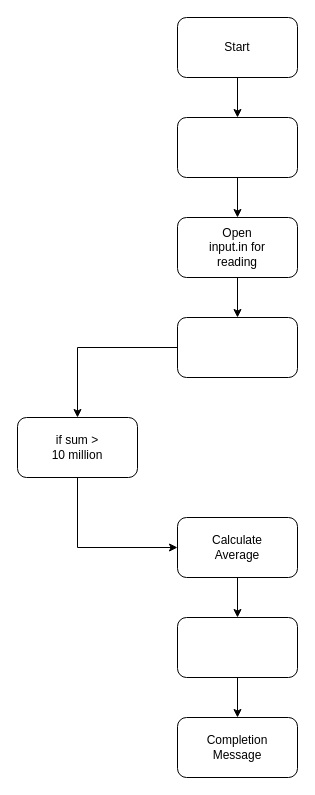
Image size: 315x795. Some labels were removed from this diagram. The shapes that lost their labels are listed below. From the top down, each one's centre as x and y in pixels, then its label:
At pixel 237 147: "Variable Declarations".
At pixel 237 347: "While scanner has data".
At pixel 237 647: "Print write to output.out".
